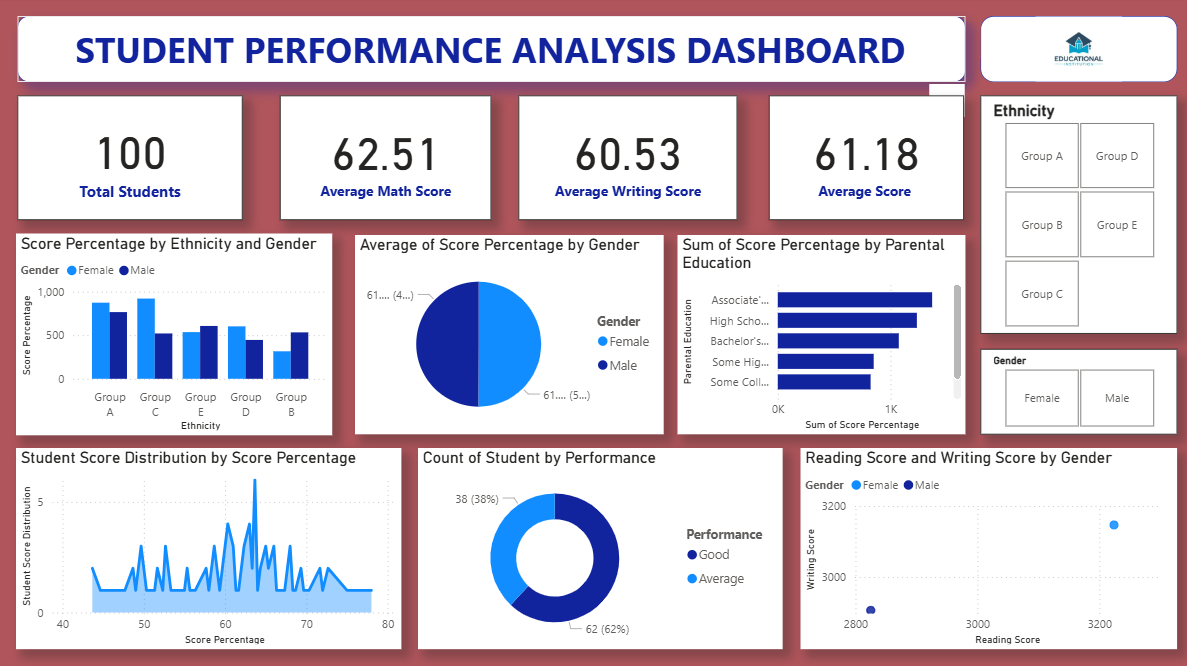

This screenshot's page, from the dashboard's own definition file:
{"tool":"powerbi","page":{"name":"Debdut-Nandy-Student-Performance-Analysis","canvas":[1280,720],"ordinal":0},"visuals":[{"type":"textbox","box":[36.6,22.3,1005.3,70],"z":0},{"type":"image","box":[1057.8,22.3,208.4,70],"z":1000},{"type":"card","fields":{"Values":["CountNonNull(Marks.Student ID)"]},"box":[36.6,106.6,238.6,132],"z":2000},{"type":"card","fields":{"Values":["Avg(Marks.Math Score)"]},"box":[314.9,106.6,224.3,132],"z":3000},{"type":"card","fields":{"Values":["Avg(Marks.Writing Score)"]},"box":[567.8,106.6,232.2,132],"z":4000},{"type":"card","fields":{"Values":["Avg(Marks.Score Percentage)"]},"box":[833.5,106.6,206.8,132],"z":5000},{"type":"slicer","fields":{"Values":["Marks.Ethnicity"]},"box":[1057.8,106.6,208.4,252.9],"z":6000},{"type":"slicer","fields":{"Values":["Marks.Gender"]},"box":[1057.8,375.4,208.4,90.7],"z":7000},{"type":"clusteredColumnChart","fields":{"Category":["Marks.Ethnicity"],"Y":["Sum(Marks.Score Percentage)"],"Series":["Marks.Gender"]},"box":[35.6,252.6,335.2,213.7],"z":8000},{"type":"pieChart","fields":{"Y":["Avg(Marks.Score Percentage)"],"Category":["Marks.Gender"]},"box":[394.5,254.5,327.7,211.6],"z":9000},{"type":"clusteredBarChart","fields":{"Category":["Marks.Parental Education"],"Y":["Sum(Marks.Score Percentage)"]},"box":[736.5,254.5,305.4,211.6],"z":10000},{"type":"areaChart","fields":{"Category":["Marks.Score Percentage"],"Y":["CountNonNull(Marks.Student ID)"]},"box":[35,480.4,408.8,213.1],"z":11000},{"type":"scatterChart","fields":{"X":["Sum(Marks.Reading Score)"],"Y":["Sum(Marks.Writing Score)"],"Series":["Marks.Gender"]},"box":[866.9,480.4,399.2,213.1],"z":12000},{"type":"donutChart","fields":{"Category":["Marks.Performance Category"],"Y":["CountNonNull(Marks.Student ID)"]},"box":[461.3,480.4,386.5,213.1],"z":13000}]}

Visuals, with their boxes in screenshot pixels (x1, y1, x2, y2), scaled from the page's 1280x720 canvas onto the 1187x666 screenshot:
textbox: [34,21,966,85]
image: [981,21,1174,85]
card - CountNonNull(Marks.Student ID): [34,99,255,221]
card - Avg(Marks.Math Score): [292,99,500,221]
card - Avg(Marks.Writing Score): [527,99,742,221]
card - Avg(Marks.Score Percentage): [773,99,965,221]
slicer - Marks.Ethnicity: [981,99,1174,333]
slicer - Marks.Gender: [981,347,1174,431]
clusteredColumnChart - Marks.Ethnicity x Sum(Marks.Score Percentage): [33,234,344,431]
pieChart - Avg(Marks.Score Percentage) x Marks.Gender: [366,235,670,431]
clusteredBarChart - Marks.Parental Education x Sum(Marks.Score Percentage): [683,235,966,431]
areaChart - Marks.Score Percentage x CountNonNull(Marks.Student ID): [32,444,412,641]
scatterChart - Sum(Marks.Reading Score) x Sum(Marks.Writing Score): [804,444,1174,641]
donutChart - Marks.Performance Category x CountNonNull(Marks.Student ID): [428,444,786,641]
